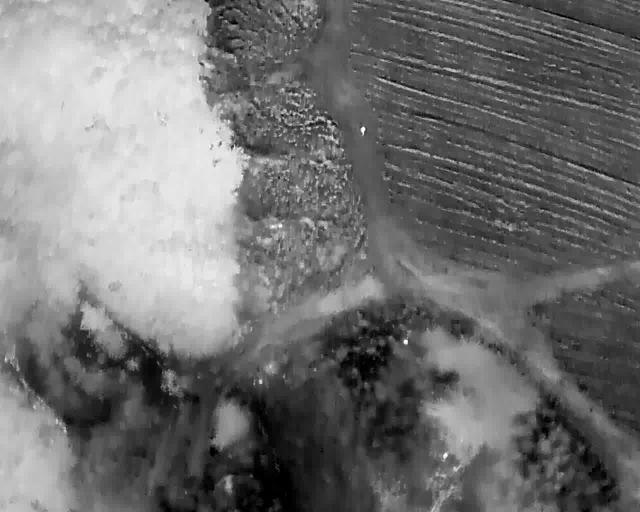person: (360, 126, 365, 136)
